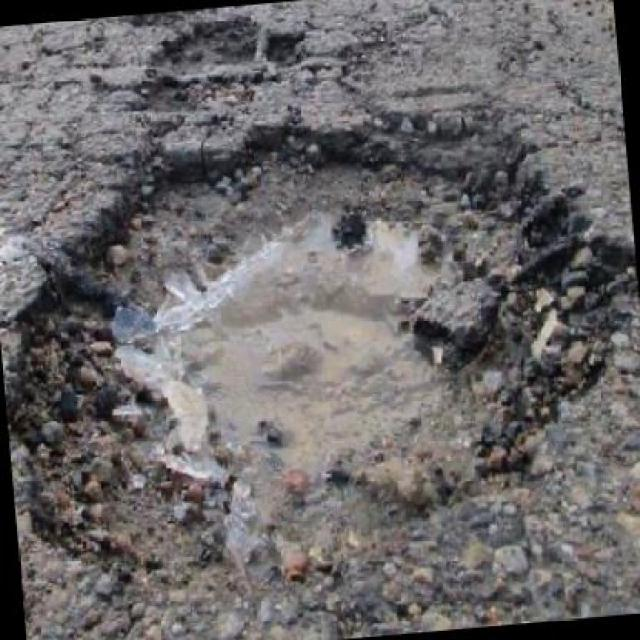pothole1: (0, 83, 638, 612), (114, 1, 312, 136)
